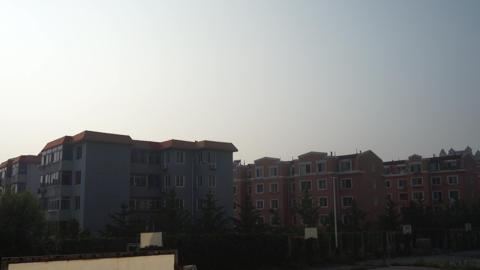UAV: (200, 162, 206, 166)
